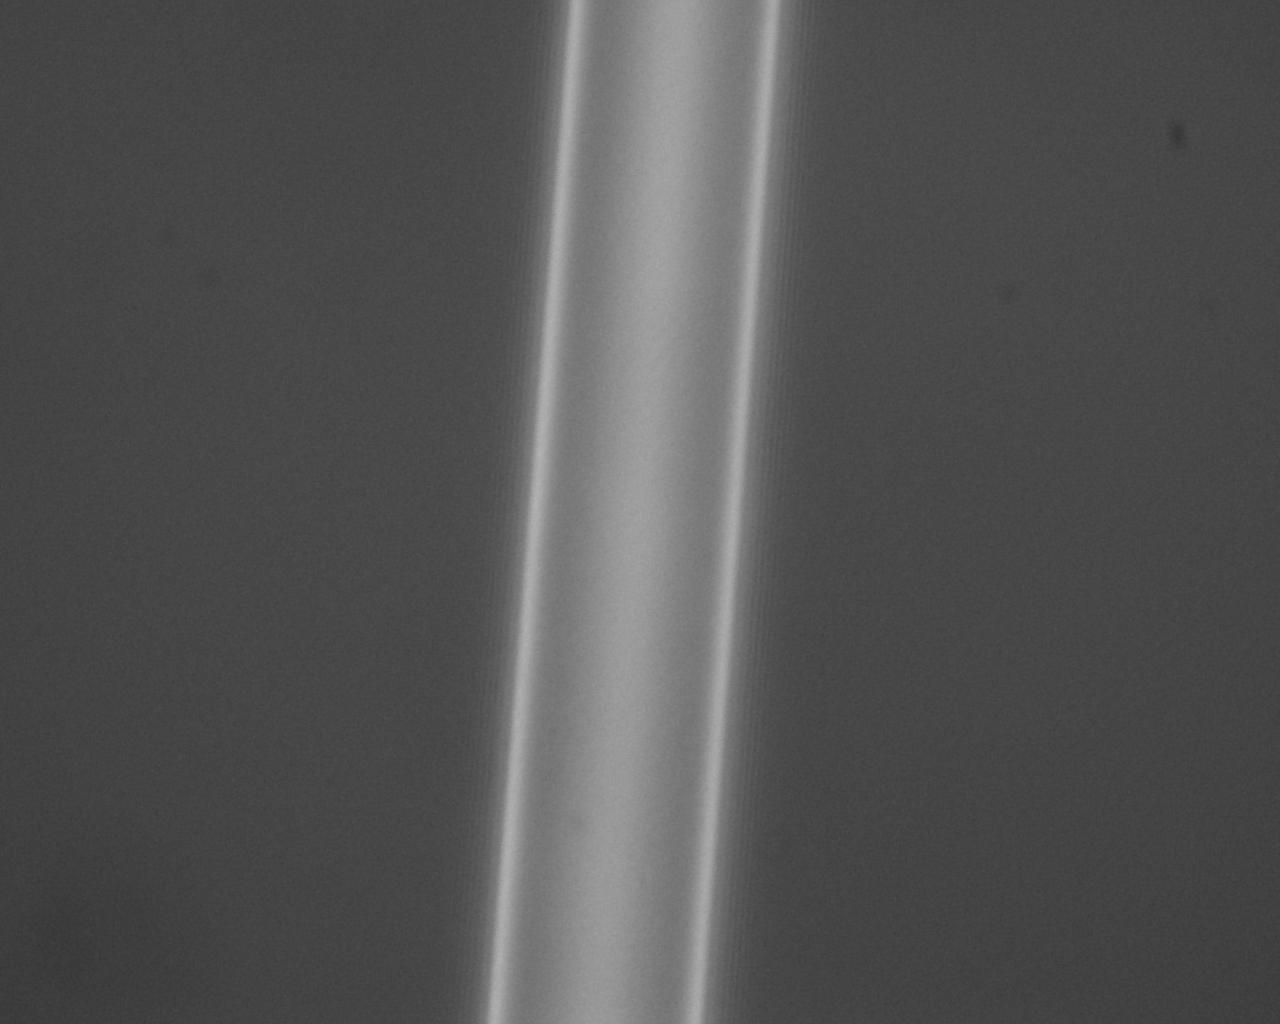fiber: (857, 0, 1280, 450), (0, 450, 857, 645), (857, 450, 1280, 771)
